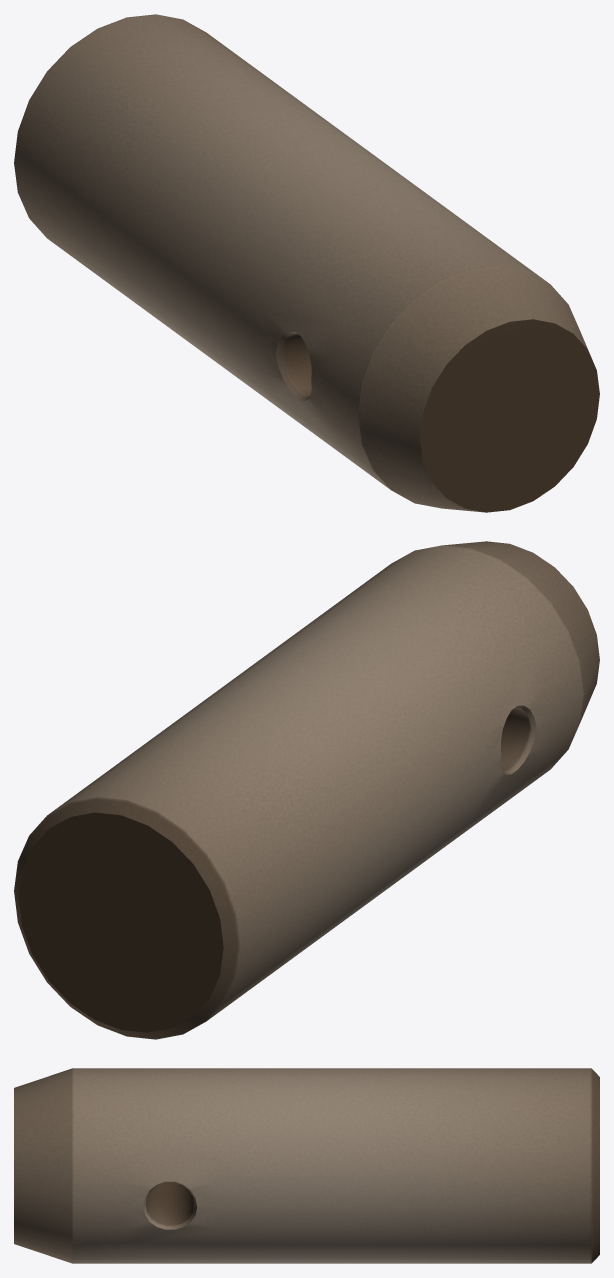
File: UPH2_Post.obj
3 renders of one model, top to bottom at view 1: azimuth 30°, elevation 25°; view 2: azimuth 150°, elevation 25°; view 3: azimuth 270°, elevation 25°, orthographic. The views are drawn at different scales.
Visible parts, largest first — view 1: polySurface955; view 2: polySurface955; view 3: polySurface955.
Boxes of the visible parts, left/top/right/bottom form: polySurface955: left=14, top=14, right=599, bottom=512; polySurface955: left=14, top=541, right=599, bottom=1039; polySurface955: left=14, top=1068, right=599, bottom=1263.
Size of the model in its own units: 12.77 by 12.77 by 38.12.
